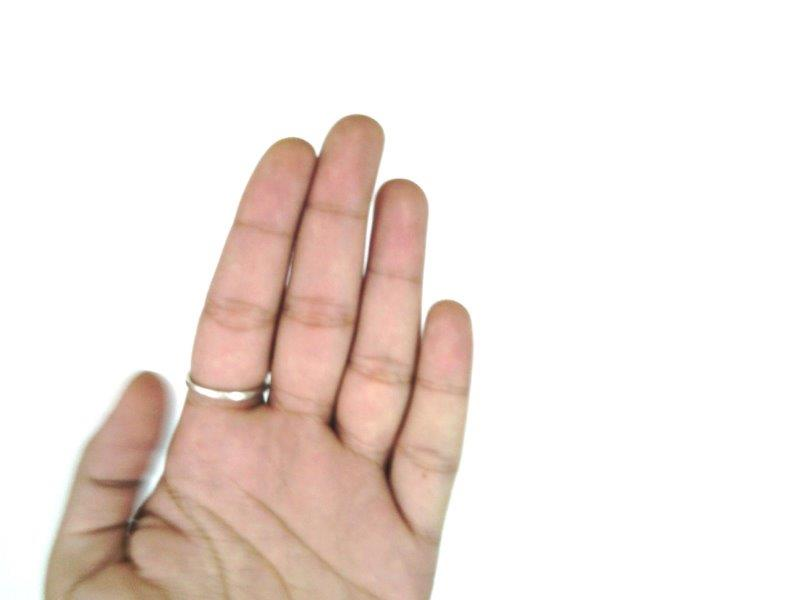hand: (45, 114, 475, 600)
